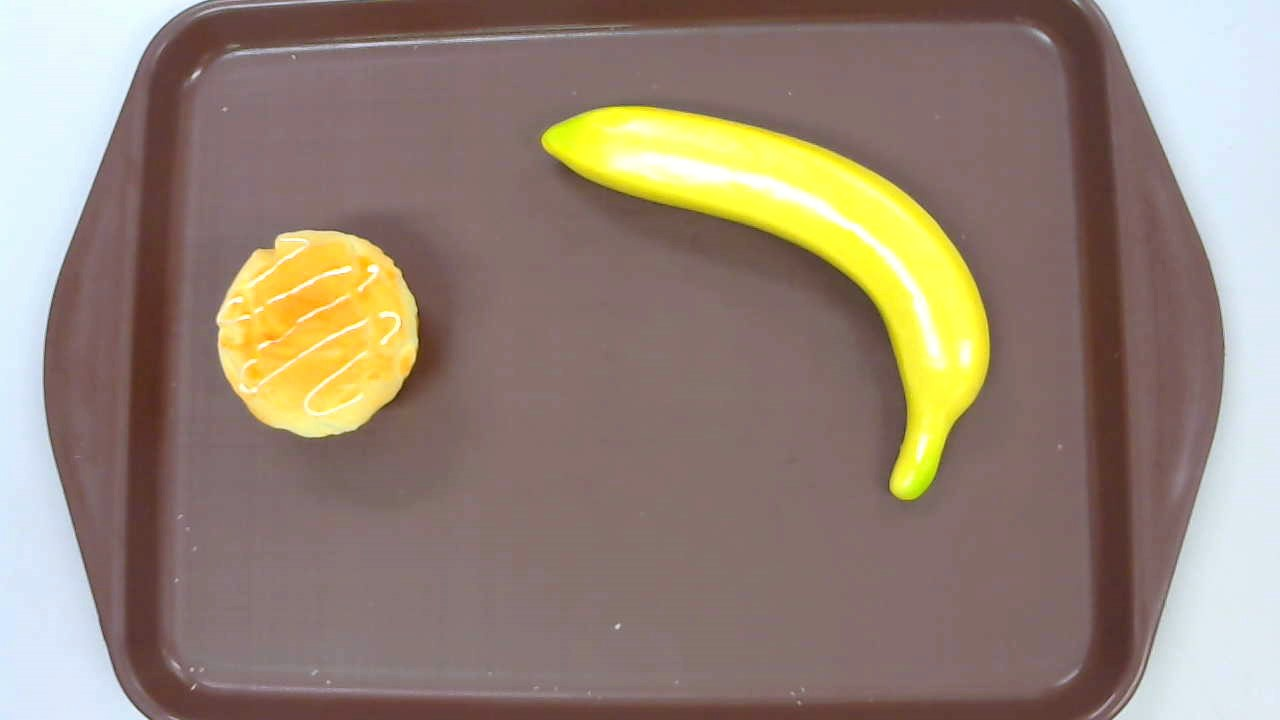banana: (541, 106, 991, 500)
cupcake: (214, 228, 418, 441)
